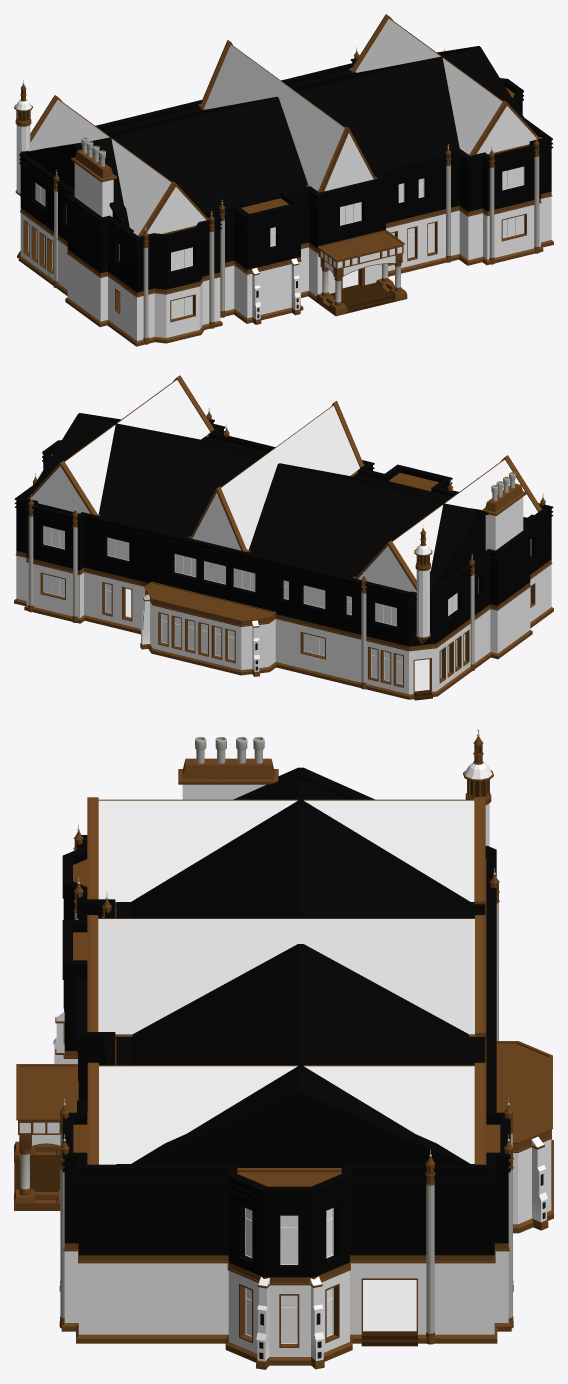
The model's file is Manor.fbx.
The picture shows the model from 3 angles, top to bottom: view 1: azimuth 30°, elevation 25°; view 2: azimuth 150°, elevation 25°; view 3: azimuth 270°, elevation 25°; orthographic projection. The views are drawn at different scales.
Parts seen in each view (by area): view 1: Roof - UV DONE?, First Floor, Ground floor - UV DONE, gfloor2 - UVD, Cover Top, gfloor windows - UVD, Floor - UVD, Cover, Pillar - UVD006, Pillar - UVD009, Pillar - UVD005, Pillar - UVD010 (+7 smaller); view 2: Roof - UV DONE?, First Floor, Ground floor - UV DONE, gfloor2 - UVD, gfloor windows - UVD, Floor - UVD, Pillar - UVD003, Pillar - UVD001, Floor 002 - UVD?, Pillar - UVD002, Pillar - UVD, Wall Feat - UVD001 (+3 smaller); view 3: Roof - UV DONE?, First Floor, Ground floor - UV DONE, gfloor2 - UVD, Floor - UVD, Cover Top, Floor 002 - UVD?, gfloor windows - UVD, Pillar - UVD004, Wall Feat - UVD001, Wall Feat - UVD003, Wall Feat - UVD002 (+3 smaller).
Part boxes in pixels (left/top/right/bottom): Roof - UV DONE?: left=24, top=14, right=542, bottom=236; First Floor: left=14, top=47, right=553, bottom=292; Ground floor - UV DONE: left=20, top=196, right=551, bottom=340; gfloor2 - UVD: left=18, top=191, right=553, bottom=346; Cover Top: left=317, top=230, right=404, bottom=278; gfloor windows - UVD: left=23, top=213, right=526, bottom=322; Floor - UVD: left=17, top=250, right=395, bottom=313; Cover: left=322, top=263, right=401, bottom=305; Pillar - UVD006: left=534, top=156, right=539, bottom=253; Pillar - UVD009: left=209, top=231, right=214, bottom=328; Pillar - UVD005: left=489, top=167, right=494, bottom=264; Pillar - UVD010: left=143, top=248, right=148, bottom=344; Roof - UV DONE?: left=25, top=375, right=542, bottom=592; First Floor: left=14, top=408, right=553, bottom=646; Ground floor - UV DONE: left=16, top=555, right=551, bottom=694; gfloor2 - UVD: left=14, top=551, right=553, bottom=699; gfloor windows - UVD: left=40, top=572, right=535, bottom=687; Floor - UVD: left=125, top=588, right=432, bottom=700; Pillar - UVD003: left=28, top=516, right=33, bottom=612; Pillar - UVD001: left=361, top=593, right=366, bottom=689; Floor 002 - UVD?: left=51, top=454, right=438, bottom=491; Pillar - UVD002: left=72, top=527, right=77, bottom=622; Pillar - UVD: left=470, top=575, right=474, bottom=670; Wall Feat - UVD001: left=140, top=594, right=149, bottom=649; Roof - UV DONE?: left=87, top=737, right=486, bottom=1172; First Floor: left=59, top=729, right=513, bottom=1277; Ground floor - UV DONE: left=64, top=1059, right=551, bottom=1356; gfloor2 - UVD: left=14, top=1021, right=553, bottom=1365; Floor - UVD: left=14, top=1155, right=417, bottom=1346; Cover Top: left=16, top=1064, right=78, bottom=1149; Floor 002 - UVD?: left=73, top=859, right=500, bottom=1186; gfloor windows - UVD: left=64, top=1008, right=551, bottom=1347; Pillar - UVD004: left=426, top=1185, right=434, bottom=1344; Wall Feat - UVD001: left=531, top=1136, right=548, bottom=1230; Wall Feat - UVD003: left=256, top=1277, right=269, bottom=1369; Wall Feat - UVD002: left=310, top=1276, right=324, bottom=1369.
Bounding box in the file's own units: 1210 × 442 × 752.
